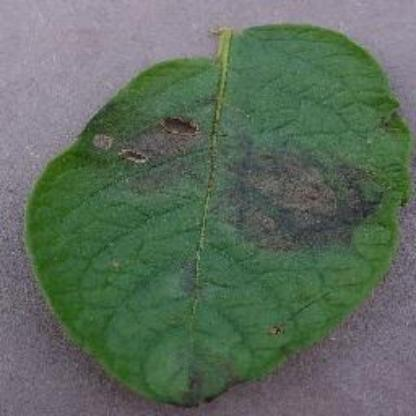Late-Blight: (29, 21, 412, 404)
